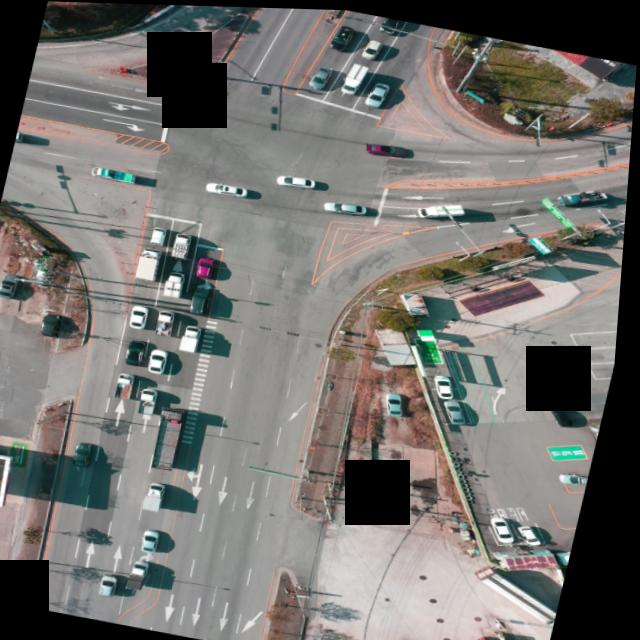car: (548, 396, 583, 426), (367, 141, 417, 160), (0, 270, 28, 303), (495, 516, 525, 543), (447, 396, 477, 423), (192, 283, 218, 314), (366, 79, 393, 107), (326, 197, 370, 214), (522, 520, 553, 543), (330, 23, 355, 51), (208, 183, 251, 199), (277, 173, 317, 190), (435, 373, 461, 398), (78, 442, 101, 470), (309, 64, 333, 90), (388, 389, 411, 414), (152, 347, 174, 373), (43, 313, 65, 339), (127, 339, 149, 365), (134, 304, 156, 329), (147, 527, 168, 552), (361, 36, 383, 59), (381, 15, 406, 35), (108, 572, 129, 595), (564, 469, 595, 484), (199, 256, 219, 278), (153, 226, 172, 247)
medium_truck: (477, 568, 572, 625), (158, 413, 192, 472), (136, 249, 164, 282), (134, 559, 159, 593)
small_truck: (557, 182, 614, 213), (415, 197, 470, 226), (339, 61, 370, 95), (95, 166, 141, 185), (149, 482, 174, 514), (165, 269, 191, 299), (183, 325, 208, 354), (120, 371, 144, 400), (157, 310, 181, 338), (172, 233, 195, 261), (141, 387, 164, 415), (530, 235, 561, 255)
